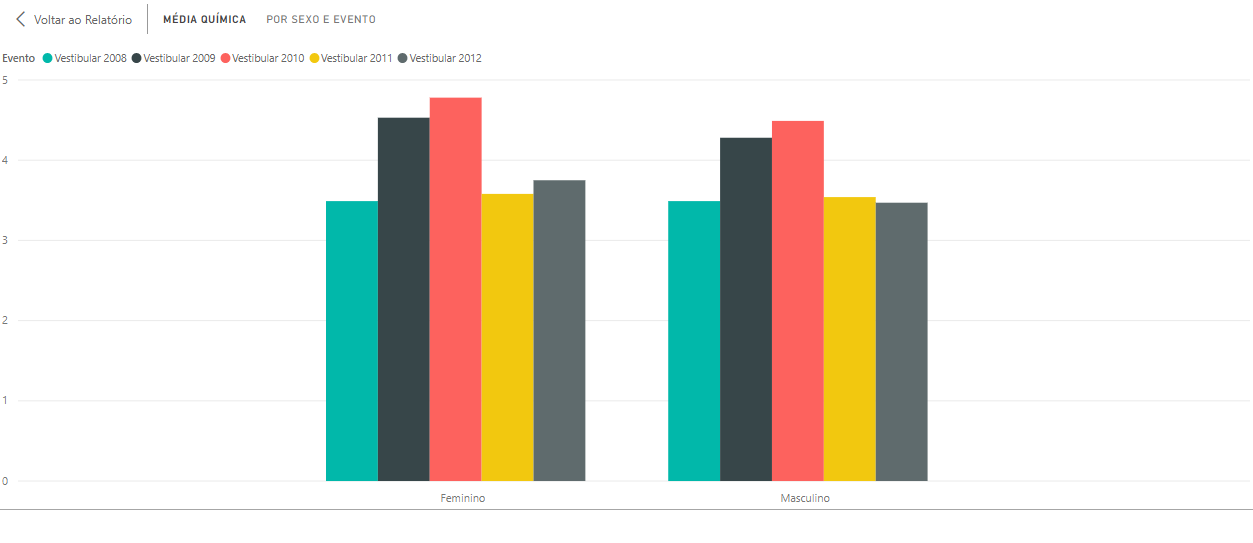

The dashboard page shown, as its layout file describes it:
{"tool":"powerbi","page":{"name":"Química - Sexo X Evento","canvas":[1280,720],"ordinal":1},"visuals":[{"type":"clusteredColumnChart","fields":{"Y":["Sum(public desempenho_fato.nota_media_quim)"],"Category":["public desempenho_fato.sexo"],"Series":["public desempenho_fato.descricao_evento"]},"box":[9.9,19.7,1268.7,698.9],"z":1}]}

Visuals, with their boxes on the page's 1280x720 design canvas (x1, y1, x2, y2). These are canvas units, not pixel positions in the 1253x543 screenshot, which may show the page scaled, cropped or inside an application window:
clusteredColumnChart - Sum(public desempenho_fato.nota_media_quim) x public desempenho_fato.sexo: [10, 20, 1279, 719]
